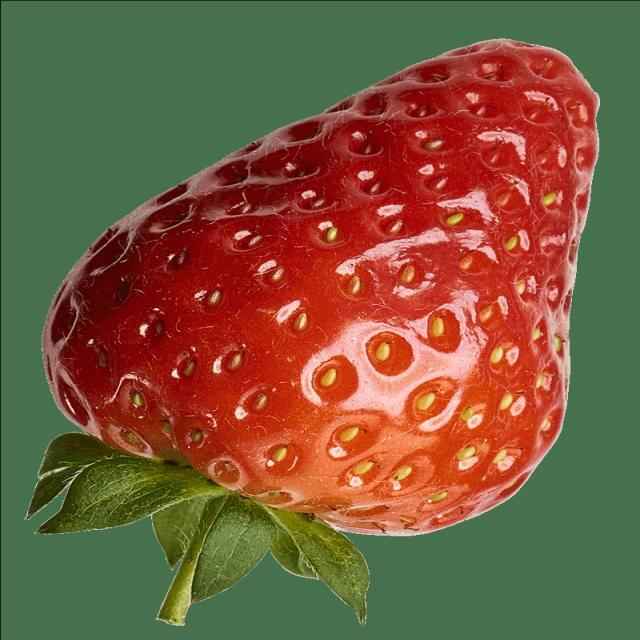strawberry: (0, 0, 606, 640)
